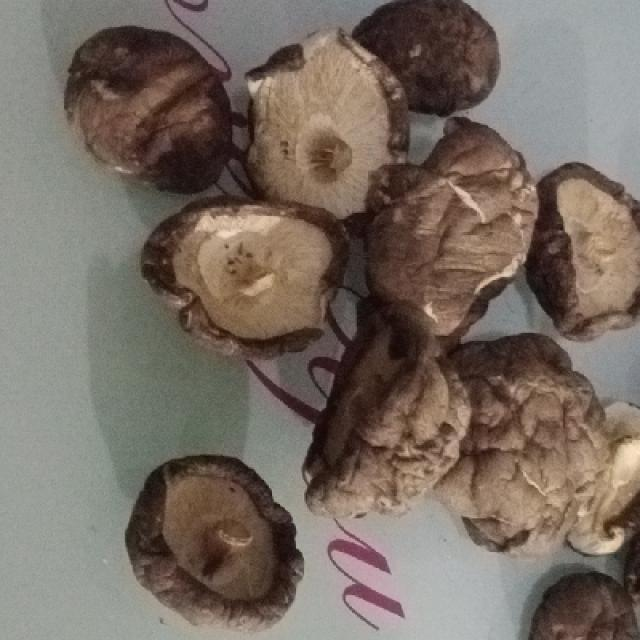Lentinus edodes: (368, 117, 534, 346), (455, 334, 607, 554), (306, 313, 467, 517), (143, 195, 348, 352), (249, 28, 407, 223), (130, 451, 302, 630), (68, 27, 233, 194), (537, 159, 640, 345), (353, 2, 502, 110)
